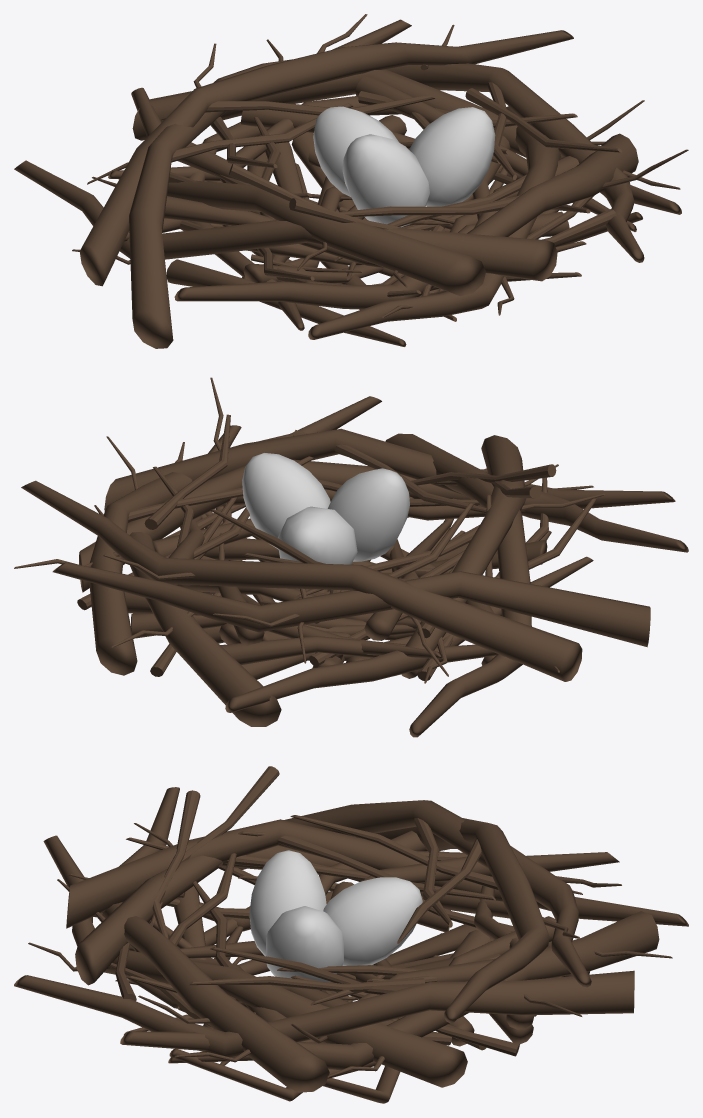
File: Nest_New.fbx
3 renders of one model, top to bottom at view 1: azimuth 30°, elevation 25°; view 2: azimuth 150°, elevation 25°; view 3: azimuth 270°, elevation 25°, orthographic. The views are drawn at different scales.
Visible parts, largest first — view 1: pSphere18; view 2: pSphere18; view 3: pSphere18.
Part boxes in pixels (left/top/right/bottom): pSphere18: left=14, top=14, right=688, bottom=348; pSphere18: left=14, top=377, right=688, bottom=737; pSphere18: left=14, top=766, right=688, bottom=1103.
Size of the model in its own units: 18.73 by 6.2 by 19.9.
